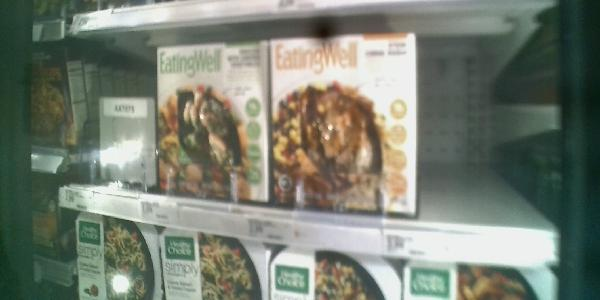pizza1: (273, 35, 418, 218), (157, 42, 271, 204)
